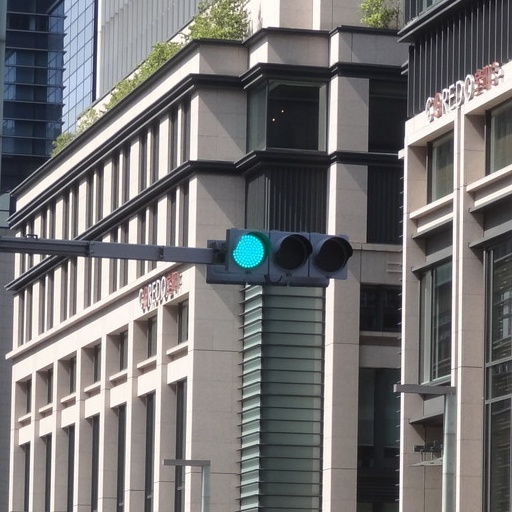Traffic_Signal_Blue: (216, 228, 358, 285)
